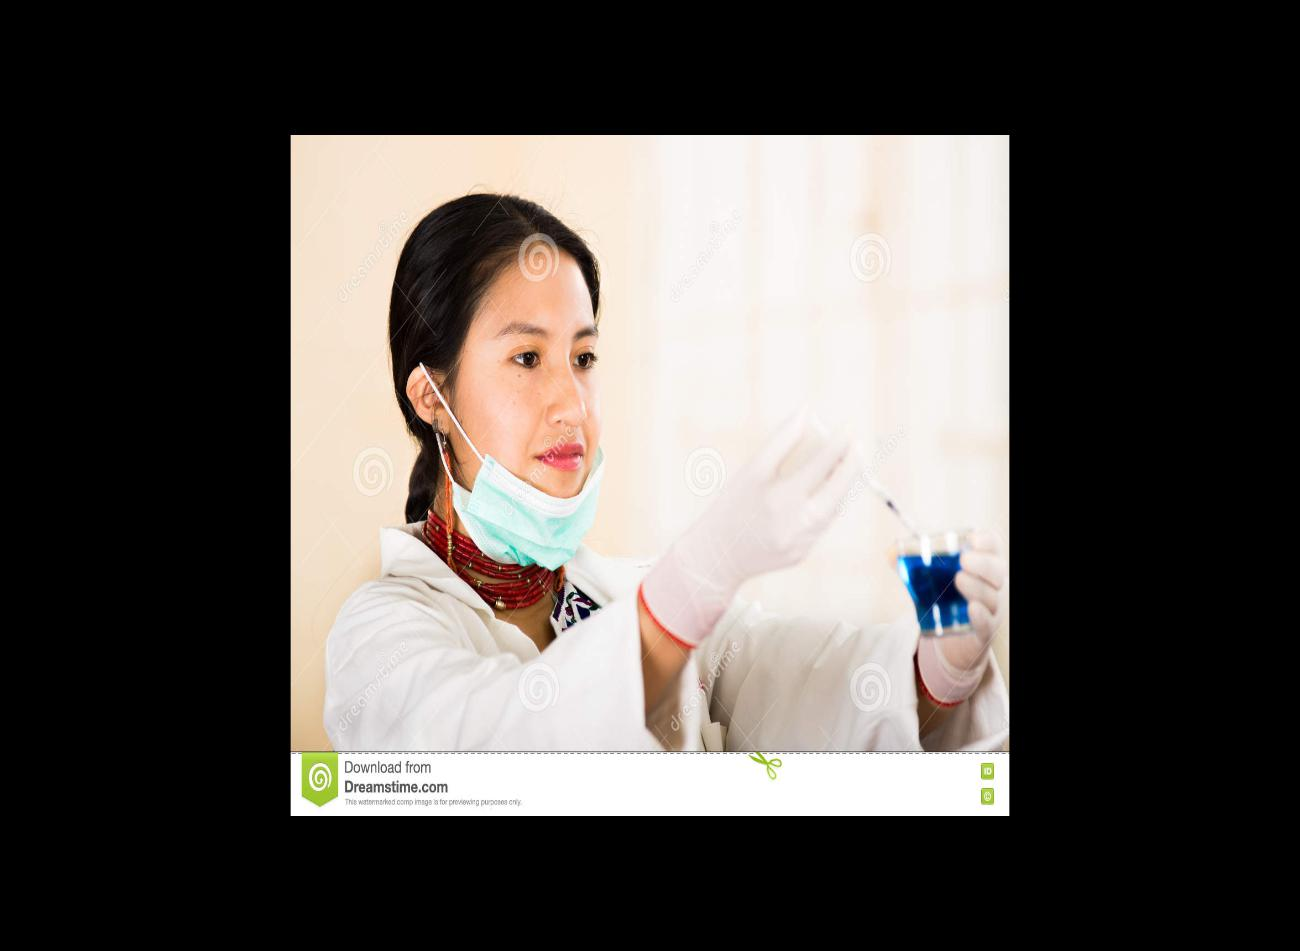mask_weared_incorrect: (484, 314, 609, 549)
